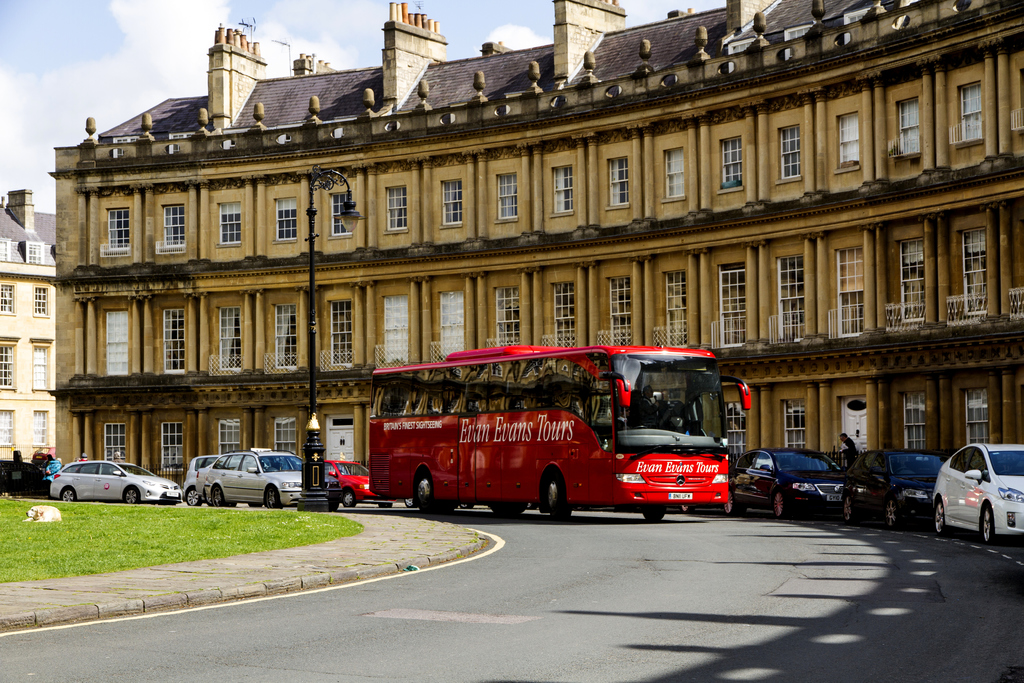Bus: (367, 340, 755, 519)
